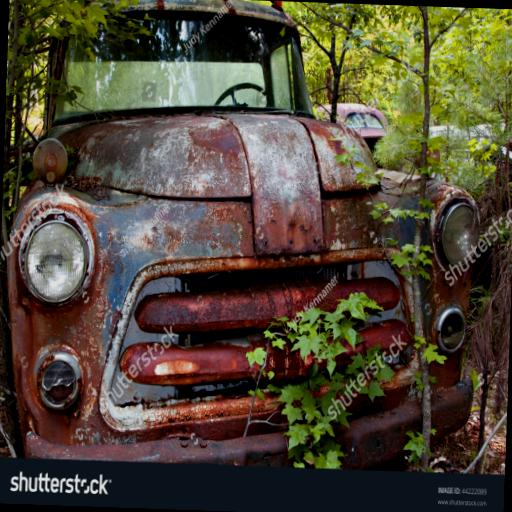van: (8, 0, 421, 468), (421, 179, 478, 438)
